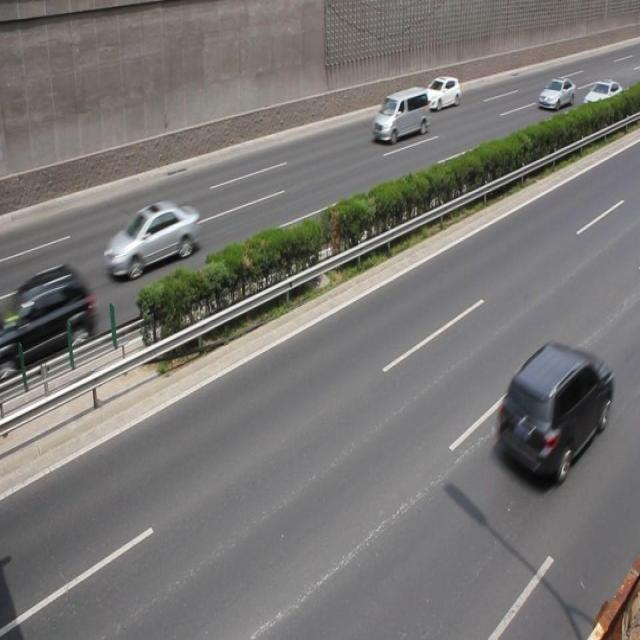car: (496, 339, 612, 485), (13, 263, 94, 375), (104, 200, 201, 278), (582, 79, 624, 115), (422, 76, 460, 111), (536, 80, 574, 110)
truck: (372, 86, 428, 146)
